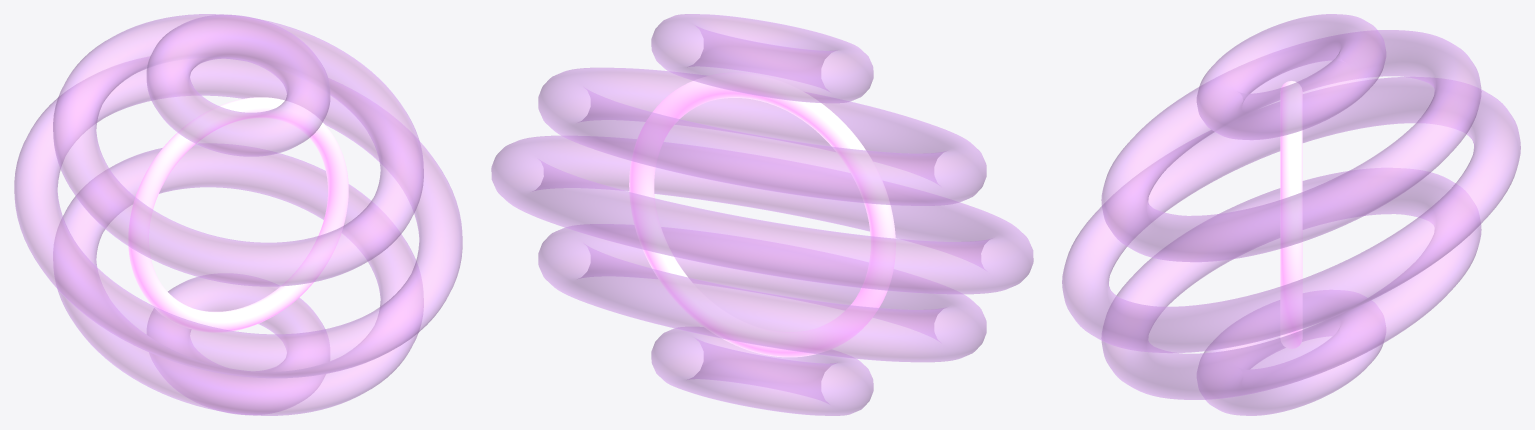
The model's file is wisdom.glb.
The picture shows the model from 3 angles, left to right: view 1: azimuth 30°, elevation 25°; view 2: azimuth 150°, elevation 25°; view 3: azimuth 270°, elevation 25°; orthographic projection. The views are drawn at different scales.
Parts seen in each view (by area): view 1: Crown lens 2, Crown lens 3, Crown lens 1, Crown lens 4, Inner aperture, Crown lens 0; view 2: Crown lens 2, Crown lens 1, Crown lens 3, Inner aperture, Crown lens 4, Crown lens 0; view 3: Crown lens 2, Crown lens 3, Crown lens 1, Crown lens 4, Crown lens 0, Inner aperture.
Boxes of the visible parts, x1=… form: Crown lens 2: x1=14, y1=56, x2=462, y2=378; Crown lens 3: x1=53, y1=14, x2=423, y2=286; Crown lens 1: x1=53, y1=143, x2=423, y2=415; Crown lens 4: x1=146, y1=14, x2=330, y2=156; Inner aperture: x1=128, y1=97, x2=348, y2=332; Crown lens 0: x1=147, y1=273, x2=329, y2=415; Crown lens 2: x1=491, y1=135, x2=1033, y2=294; Crown lens 1: x1=538, y1=224, x2=986, y2=362; Crown lens 3: x1=538, y1=67, x2=986, y2=205; Inner aperture: x1=629, y1=73, x2=895, y2=357; Crown lens 4: x1=651, y1=14, x2=873, y2=103; Crown lens 0: x1=651, y1=327, x2=873, y2=415; Crown lens 2: x1=1062, y1=77, x2=1520, y2=353; Crown lens 3: x1=1101, y1=30, x2=1481, y2=262; Crown lens 1: x1=1101, y1=168, x2=1481, y2=399; Crown lens 4: x1=1196, y1=14, x2=1386, y2=140; Crown lens 0: x1=1197, y1=290, x2=1385, y2=415; Inner aperture: x1=1280, y1=81, x2=1302, y2=348.
Size of the model in its own units: 2.17 by 1.8 by 2.05.
